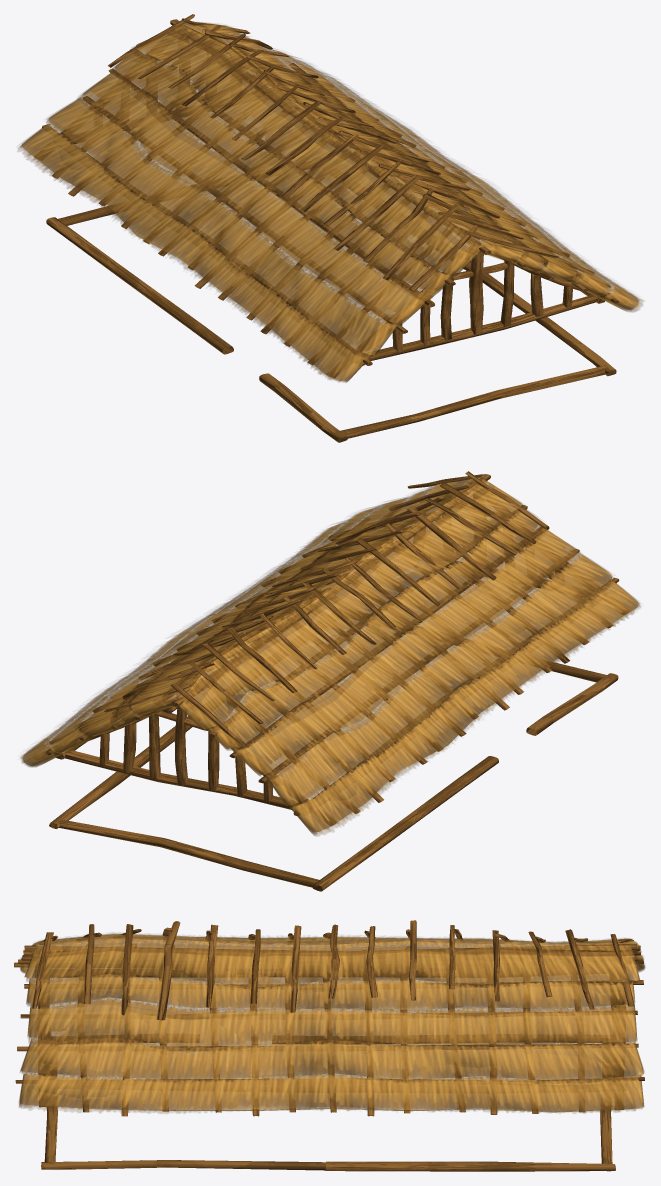
The model's file is Roof.glb.
3 views of the same model, one above another, from view 1: azimuth 30°, elevation 25°; view 2: azimuth 150°, elevation 25°; view 3: azimuth 270°, elevation 25° (orthographic). The views are drawn at different scales.
Parts seen in each view (by area): view 1: Roof; view 2: Roof; view 3: Roof.
Part boxes in pixels (x1=…): Roof: x1=17, y1=14, x2=643, y2=442; Roof: x1=20, y1=471, x2=640, y2=891; Roof: x1=14, y1=920, x2=645, y2=1171.
Bounding box in the file's own units: 15.37 × 8.3 × 25.97.
Materials: 2 (2 with a texture image).
